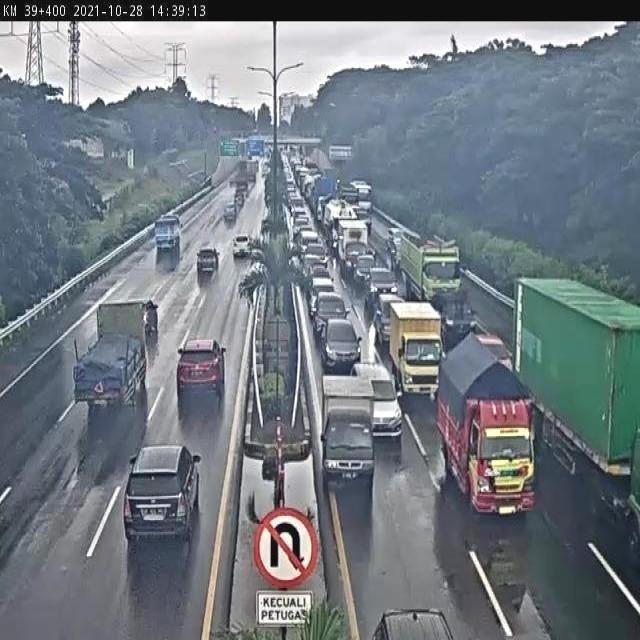Bus: (389, 222, 474, 302)
Car: (119, 442, 199, 545), (315, 411, 378, 497), (171, 326, 231, 414), (350, 360, 402, 448), (315, 317, 366, 371), (307, 294, 358, 329), (192, 236, 222, 286), (227, 222, 256, 267), (363, 267, 398, 298), (302, 266, 343, 292), (300, 237, 334, 265), (286, 213, 319, 239)
Truck: (506, 245, 640, 507), (434, 321, 542, 547), (70, 296, 152, 436)
